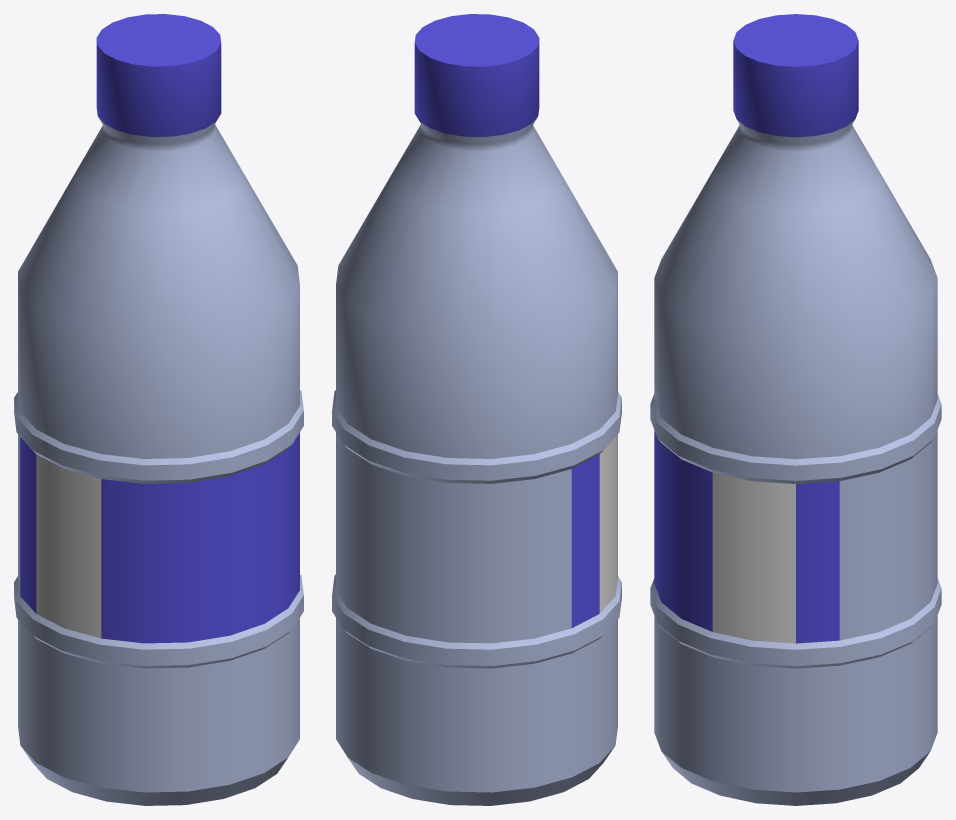
The model's file is waterBottle.fbx.
3 renders of one model, left to right at view 1: azimuth 30°, elevation 25°; view 2: azimuth 150°, elevation 25°; view 3: azimuth 270°, elevation 25°, orthographic.
Parts seen in each view (by area): view 1: Water Bottle; view 2: Water Bottle; view 3: Water Bottle.
Boxes of the visible parts, x1,y1,x2,y2 form: Water Bottle: [14, 14, 303, 805]; Water Bottle: [332, 14, 621, 805]; Water Bottle: [650, 14, 941, 805].
Bounding box in the file's own units: 16.33 × 16.33 × 43.99.
